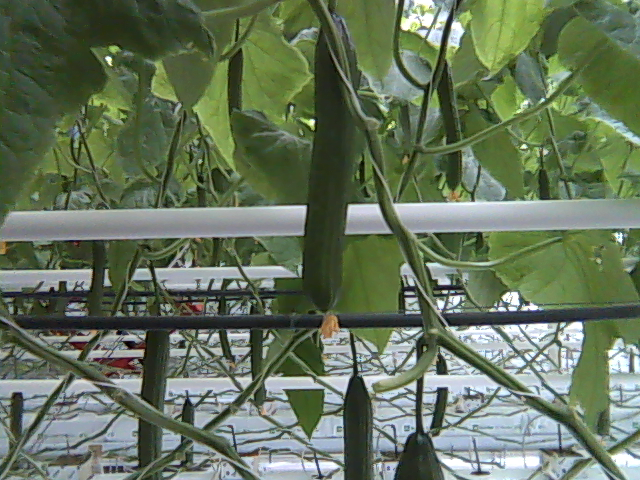concombre: (294, 9, 361, 345), (388, 425, 452, 480)
